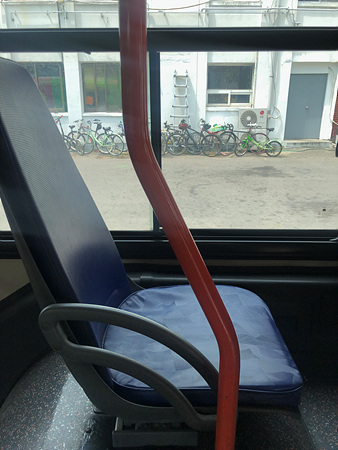seat: (3, 56, 302, 413)
